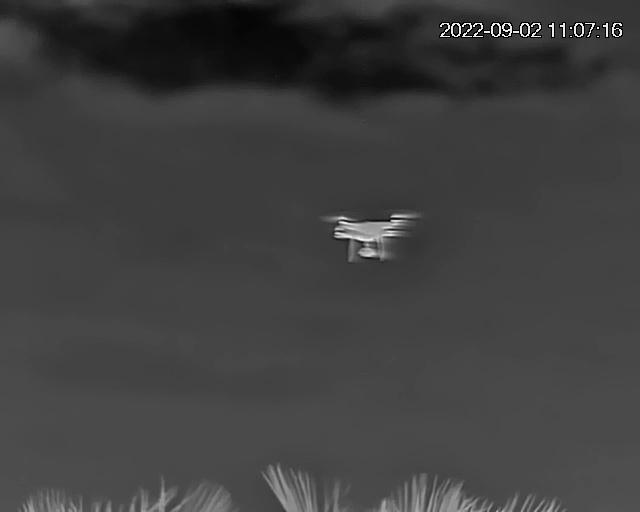DJI-Phantom: (320, 202, 423, 266)
